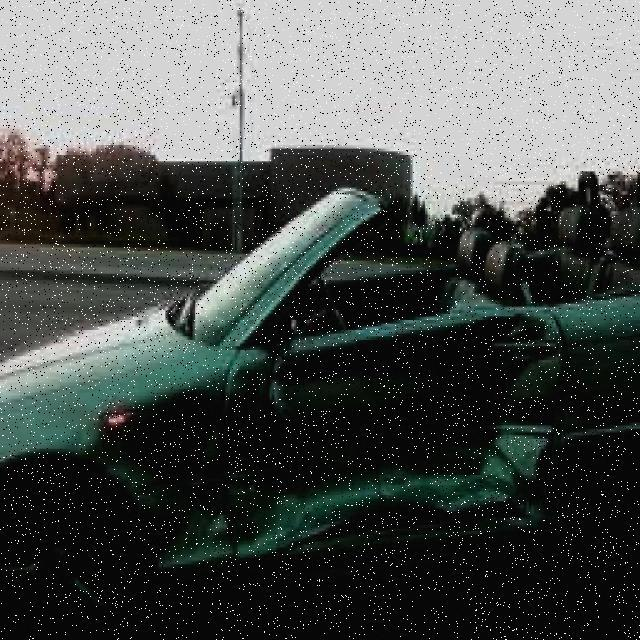car damage: (76, 300, 600, 590)
